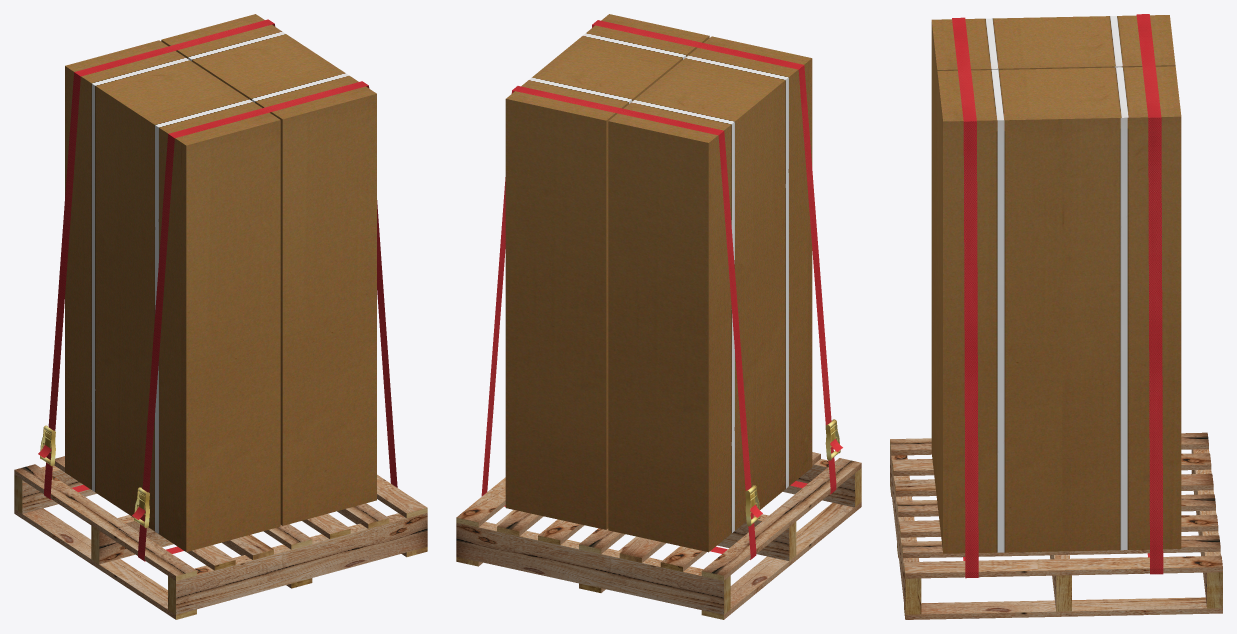
3 renders of one model, left to right at view 1: azimuth 30°, elevation 25°; view 2: azimuth 150°, elevation 25°; view 3: azimuth 270°, elevation 25°, orthographic. The views are drawn at different scales.
Visible parts, largest first — view 1: box on pallet; view 2: box on pallet; view 3: box on pallet.
Boxes of the visible parts, left/top/right/bottom form: box on pallet: left=14, top=14, right=427, bottom=619; box on pallet: left=456, top=14, right=861, bottom=619; box on pallet: left=890, top=14, right=1222, bottom=619.
Size of the model in its own units: 50.36 by 79.04 by 49.45.
